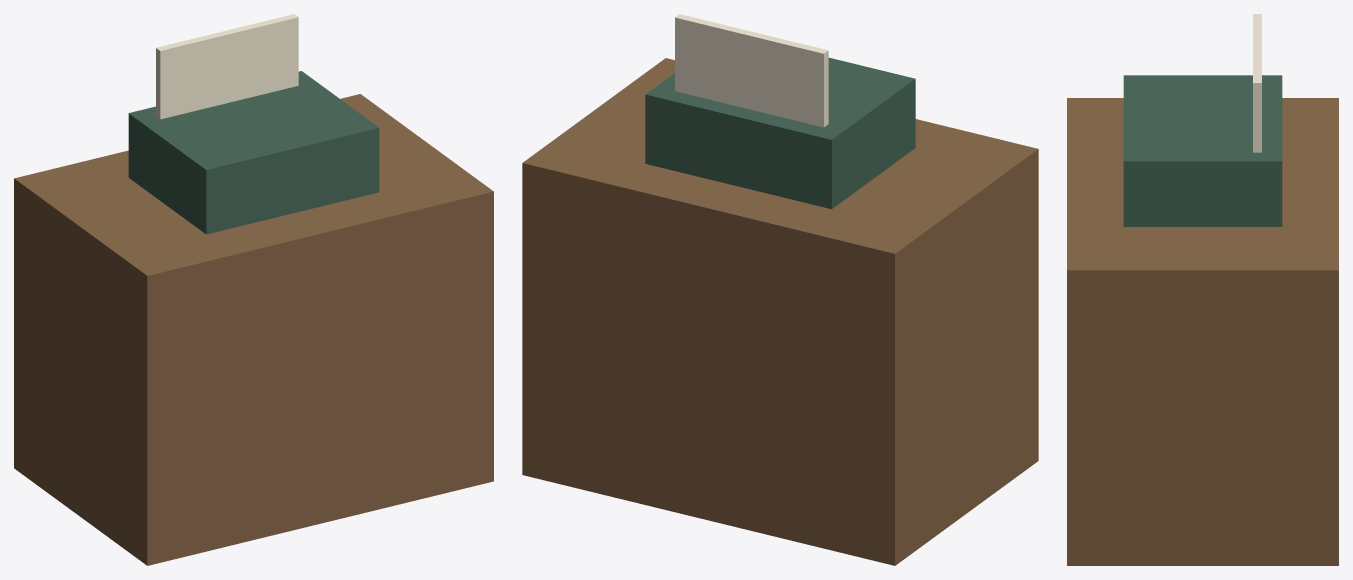
File: typewriter.glb
The picture shows the model from 3 angles, left to right: view 1: azimuth 30°, elevation 25°; view 2: azimuth 150°, elevation 25°; view 3: azimuth 270°, elevation 25°; orthographic projection. The views are drawn at different scales.
Visible parts, largest first — view 1: Box1, Box2, Box3; view 2: Box1, Box2, Box3; view 3: Box1, Box2, Box3.
Part boxes in pixels (bbox=[...]): Box1: bbox=[14, 94, 493, 565]; Box2: bbox=[128, 71, 379, 234]; Box3: bbox=[156, 14, 298, 119]; Box1: bbox=[522, 58, 1038, 565]; Box2: bbox=[645, 57, 915, 209]; Box3: bbox=[675, 14, 828, 127]; Box1: bbox=[1067, 98, 1338, 565]; Box2: bbox=[1123, 75, 1282, 226]; Box3: bbox=[1253, 14, 1261, 152].
Size of the model in its own units: 0.9 by 1.05 by 0.6.
